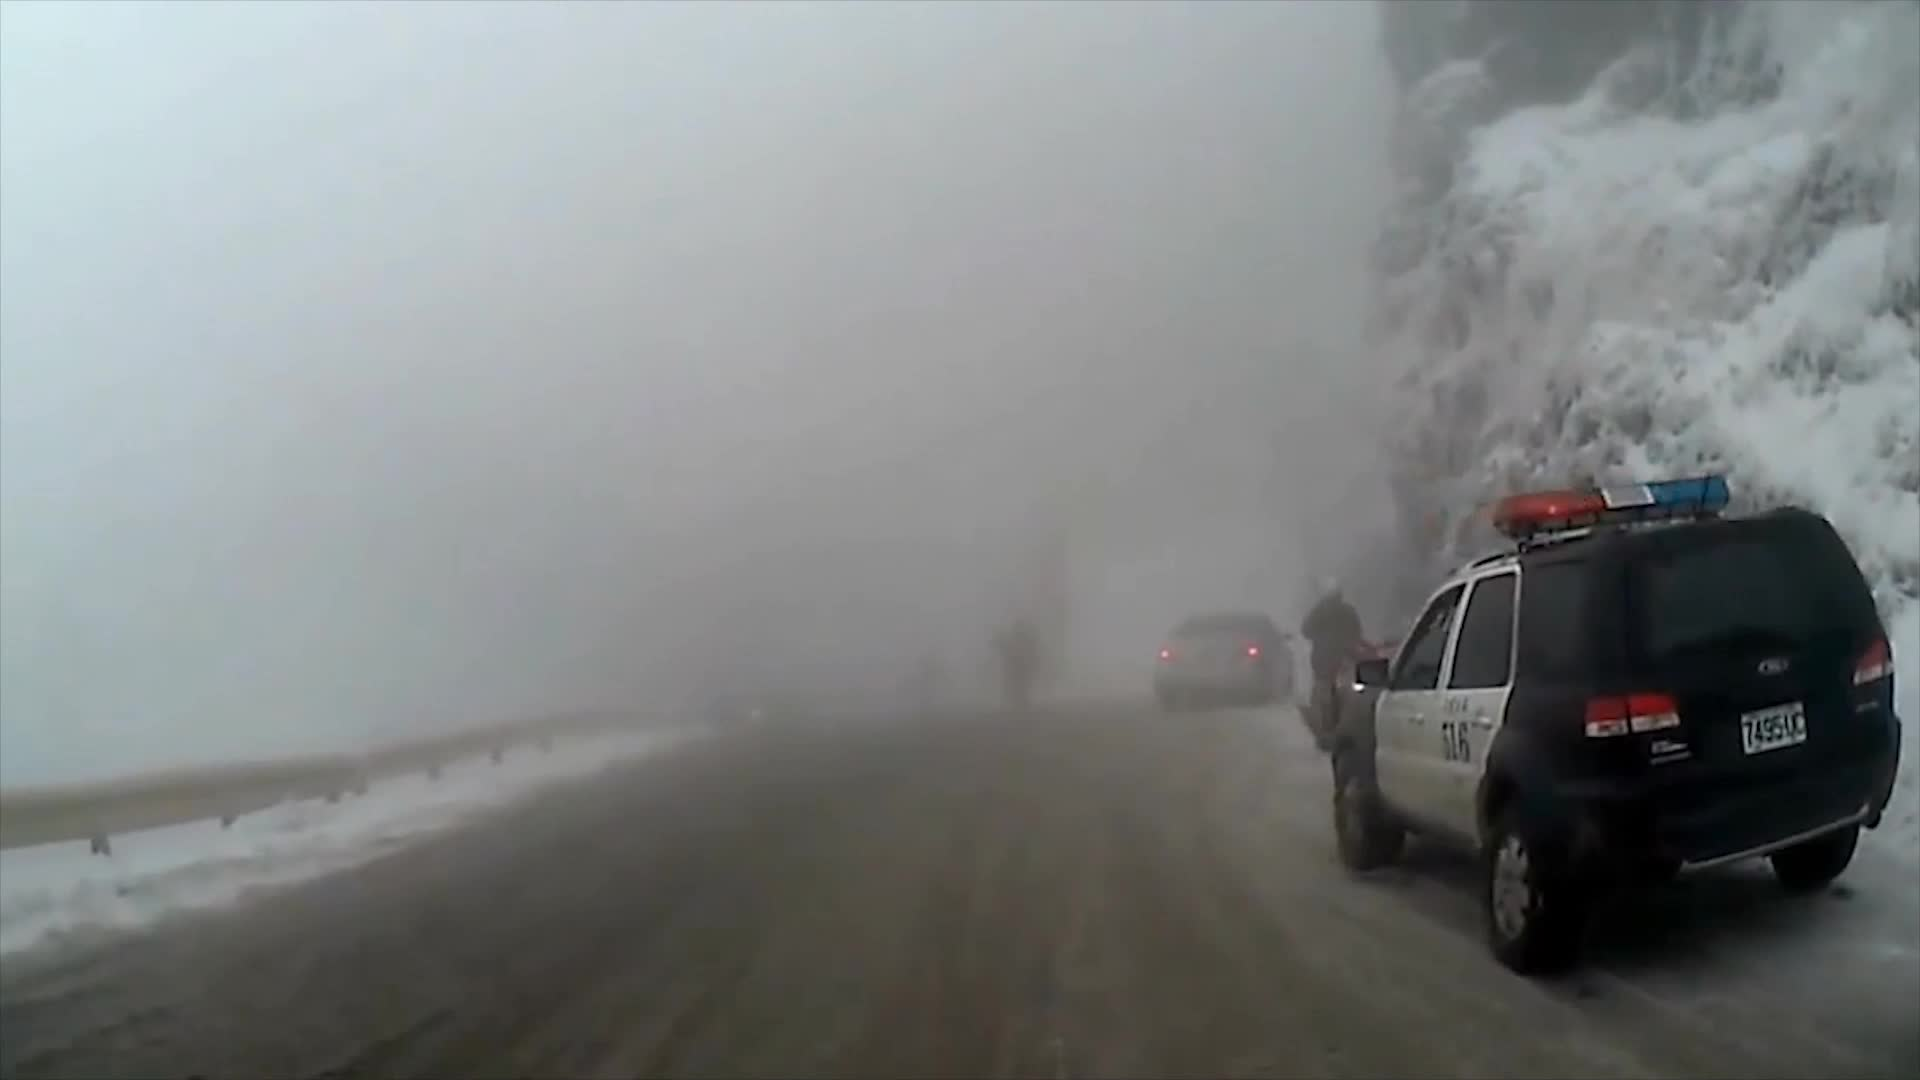pedestrian: (1299, 574, 1377, 740)
vehicle: (1331, 468, 1900, 972), (1153, 610, 1295, 712)
